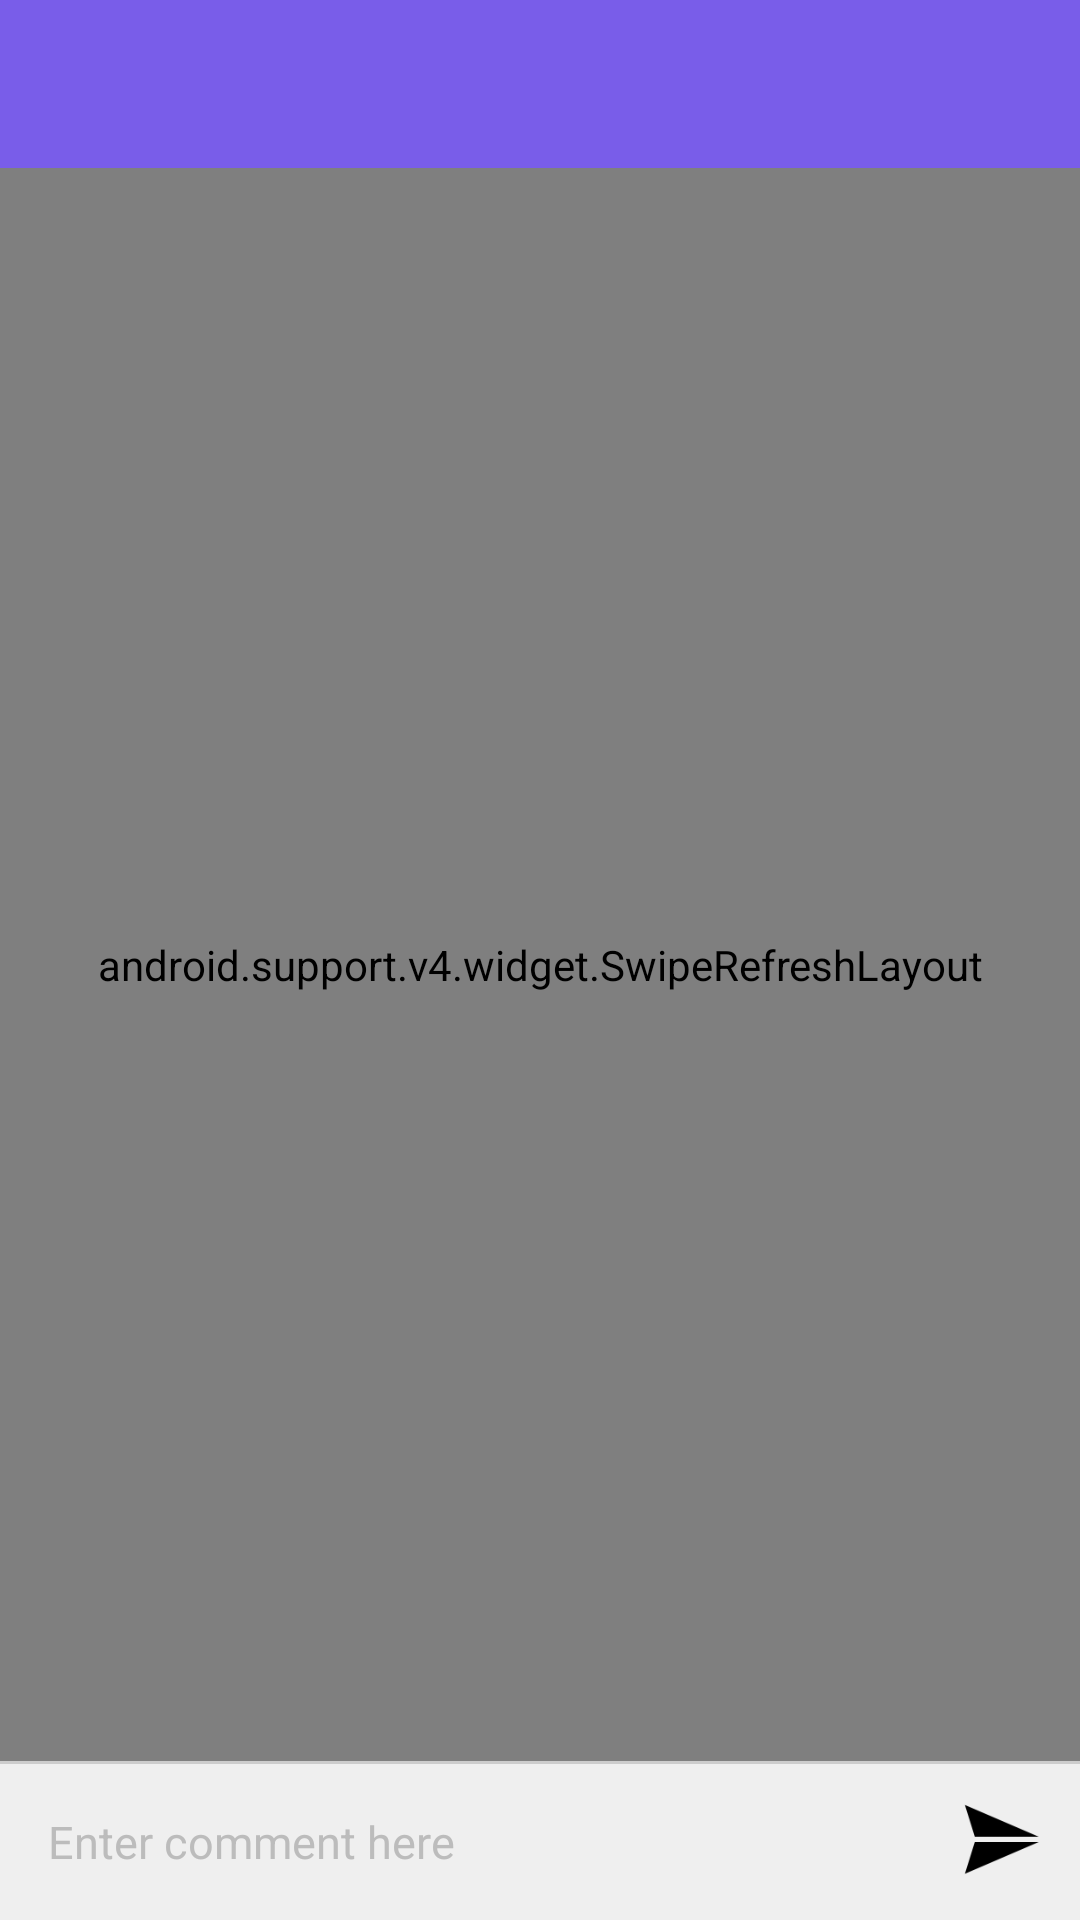

Locate icon controls on the screen. Image size 1080px x 1920px, boxes as (x1, y1, x2, y2).
send: (965, 1805, 1039, 1874)
